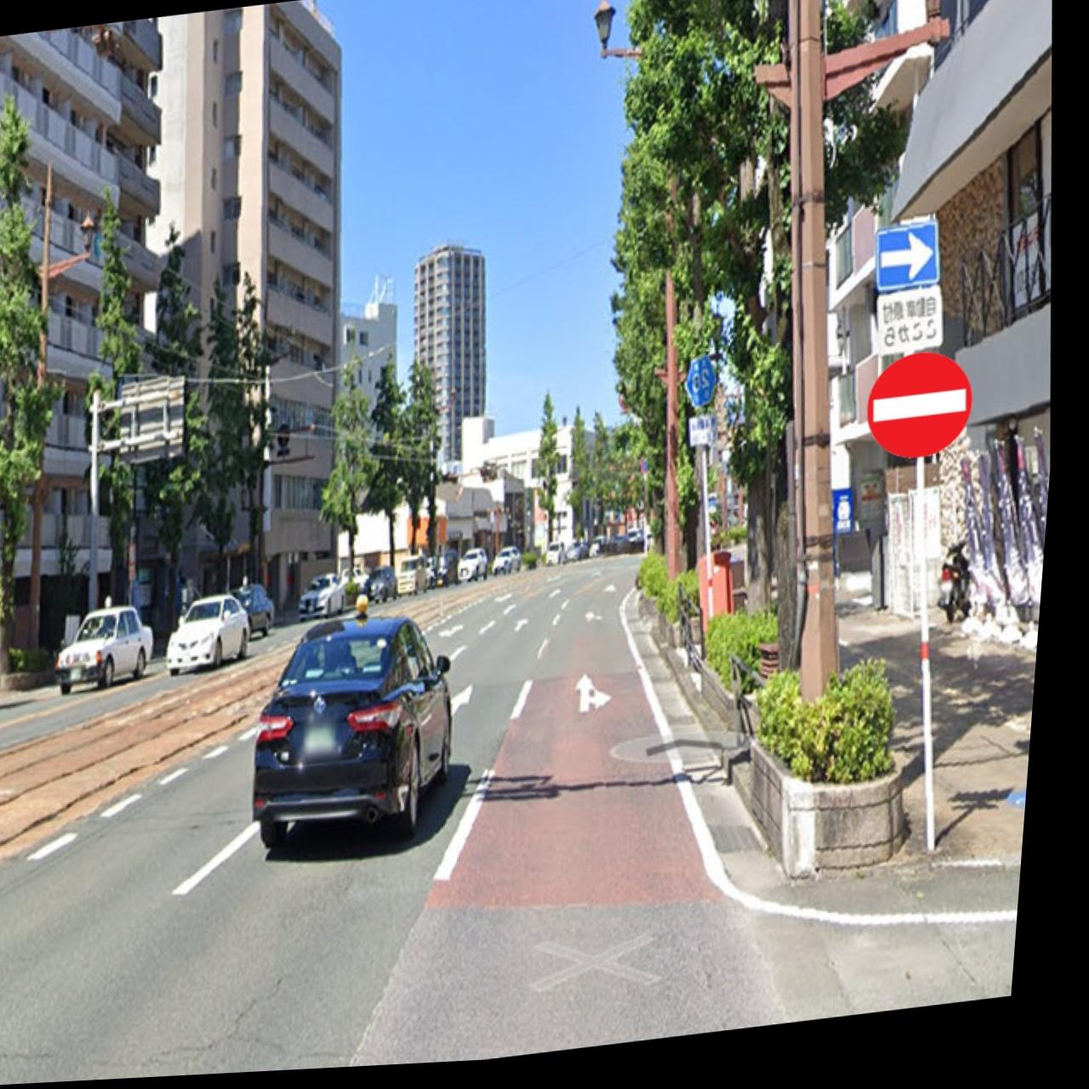barrier: (855, 341, 984, 467)
